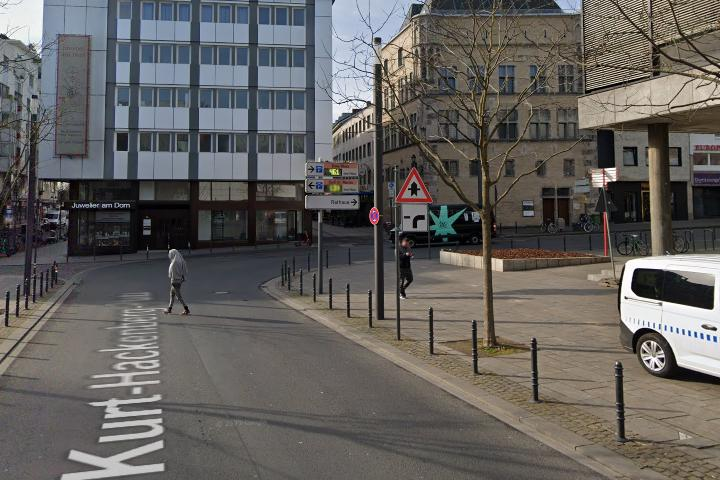traffic_sign: (394, 166, 432, 205), (399, 202, 430, 233)
